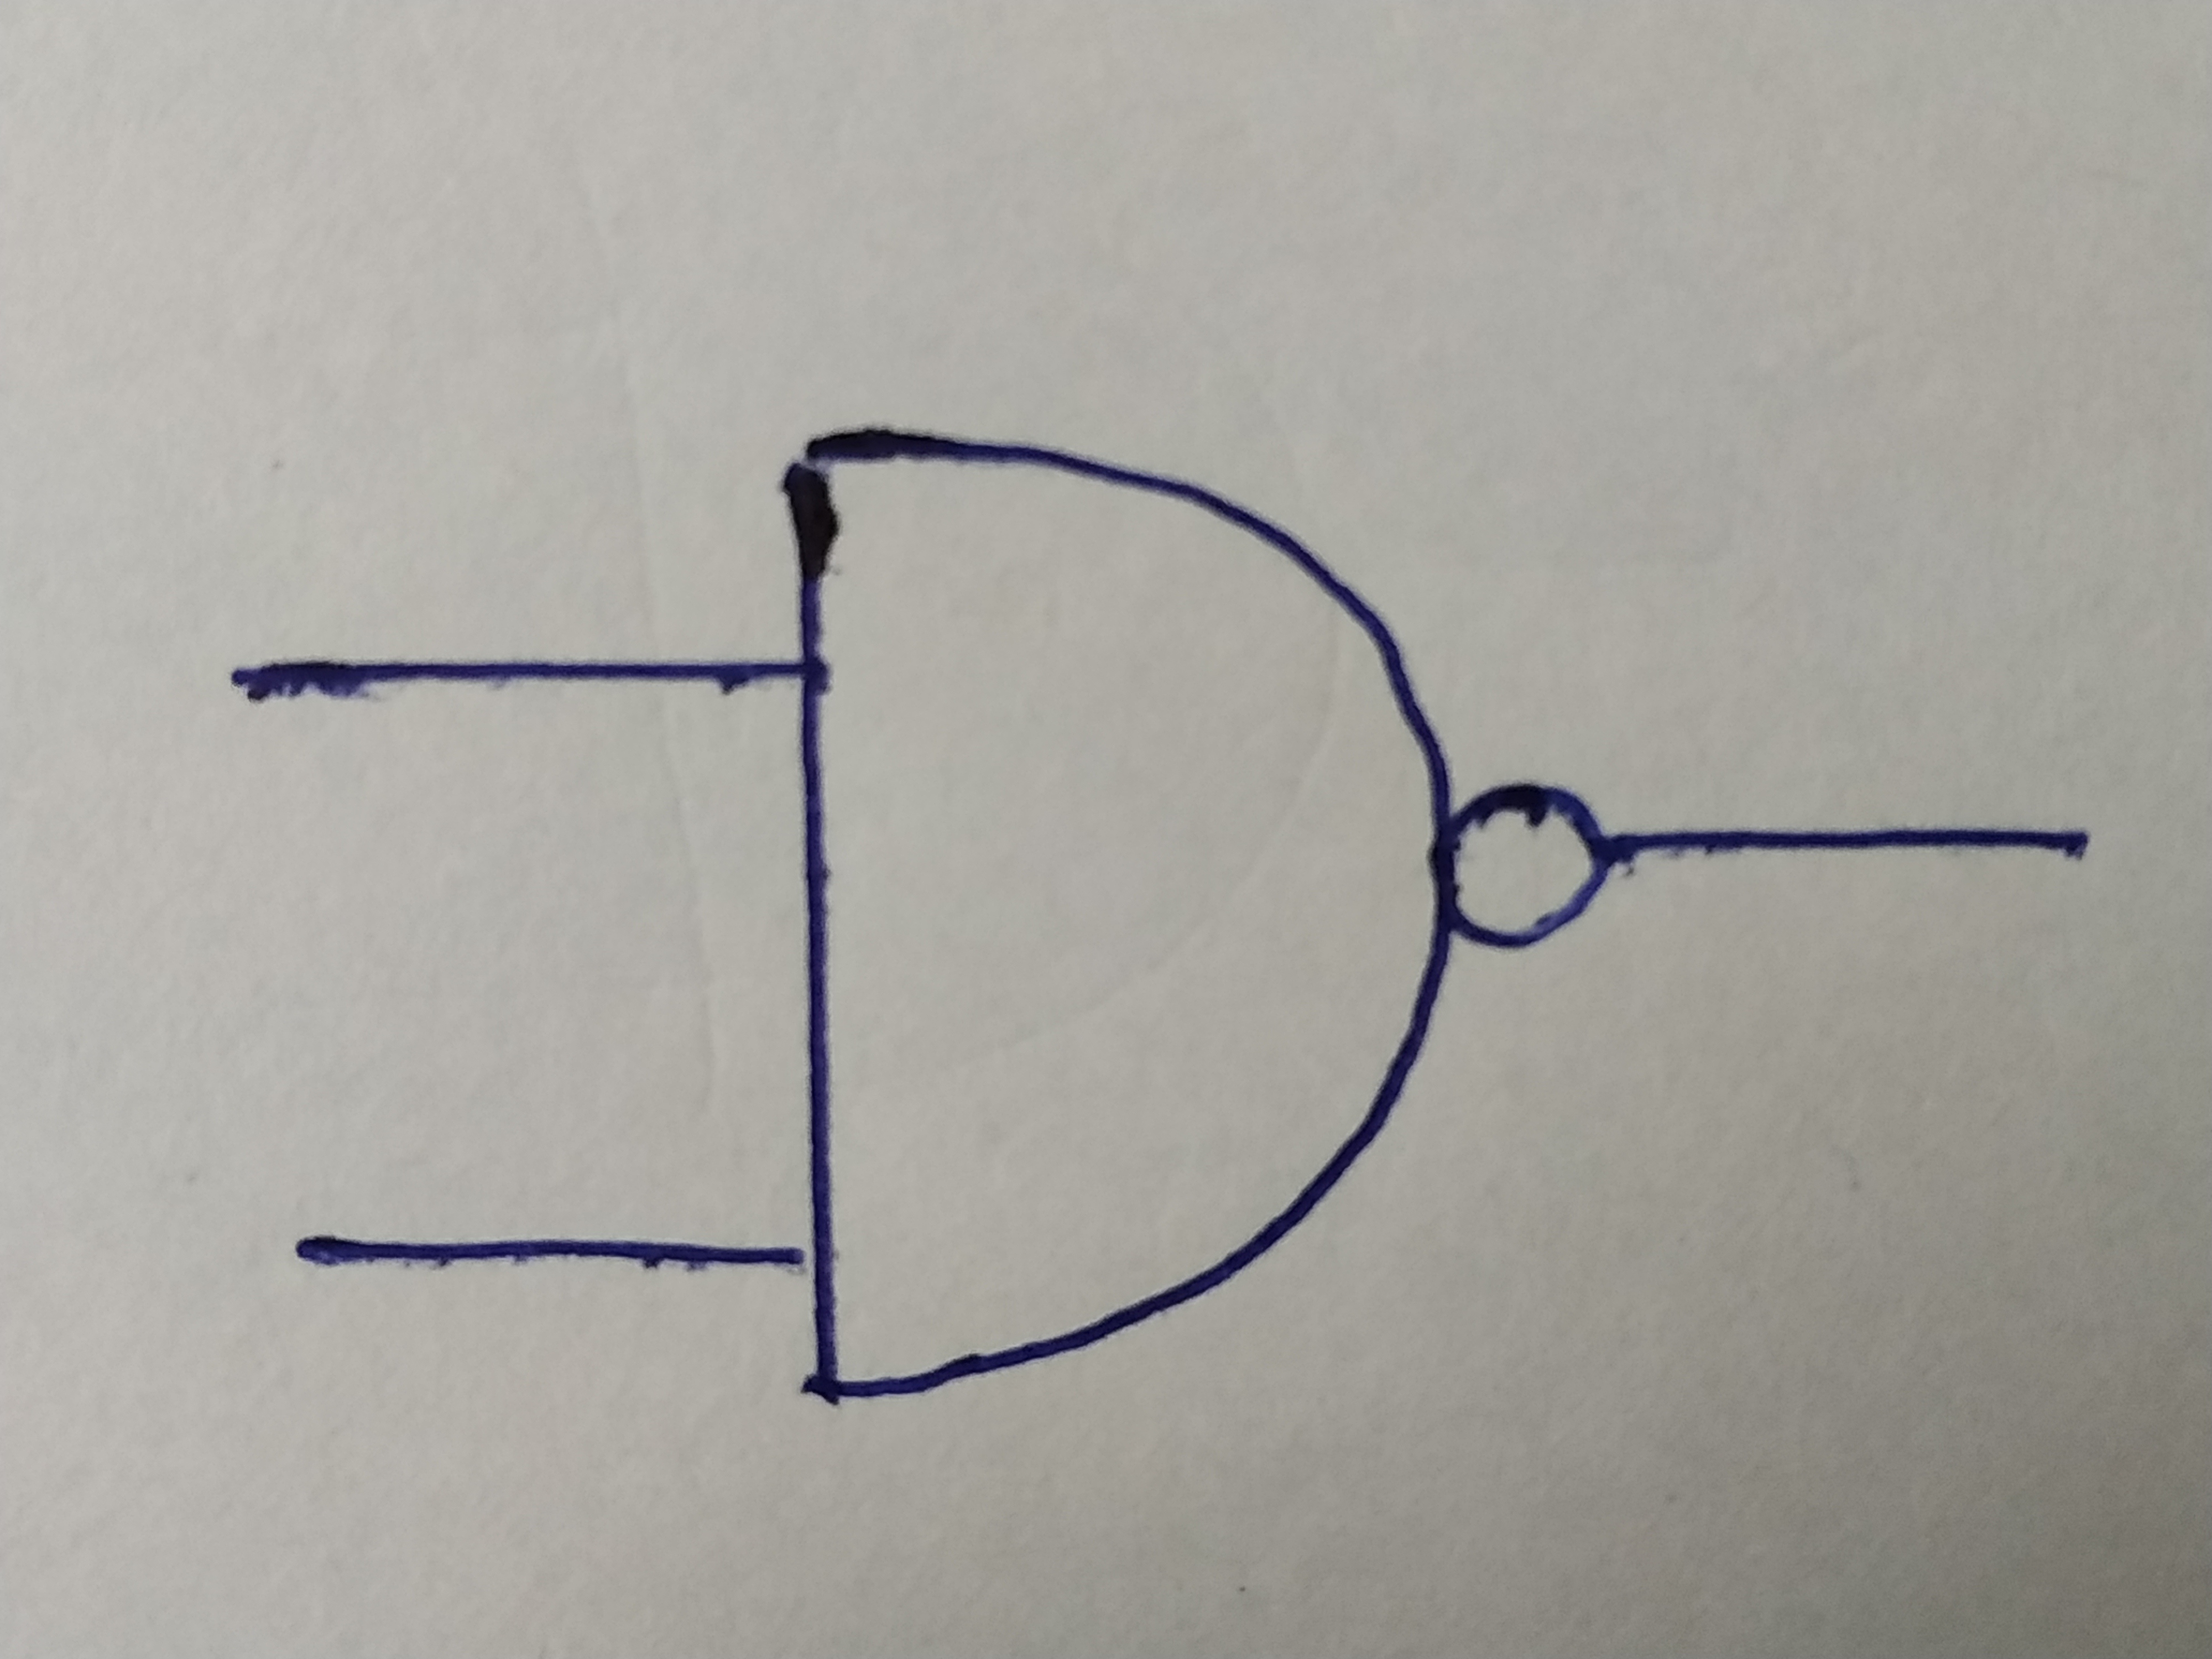and: (775, 441, 1449, 1389)
not: (1453, 781, 1608, 936)
